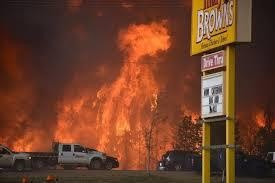fire: (43, 18, 194, 173)
